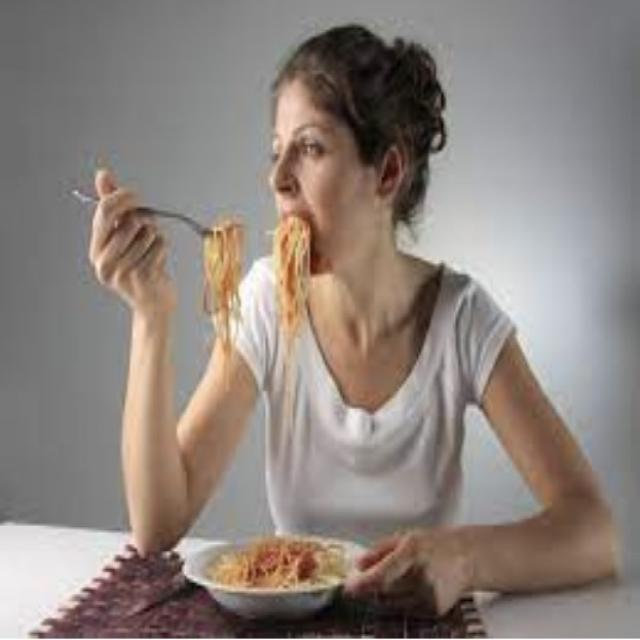eating-person: (56, 10, 628, 615)
